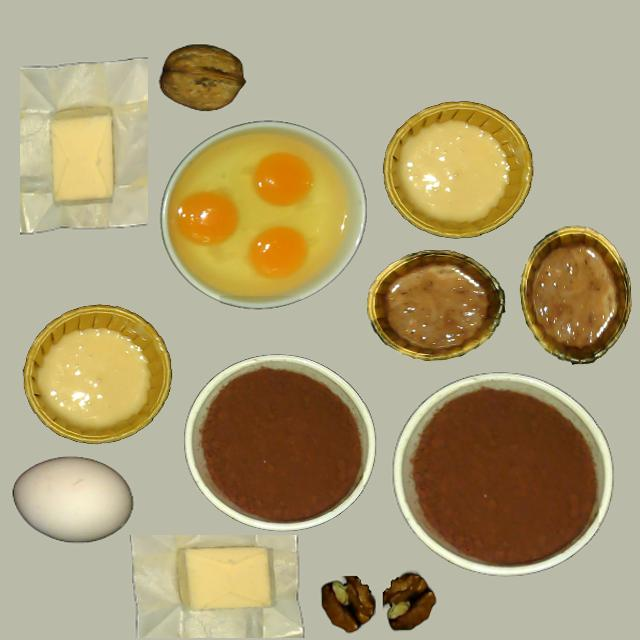Cocoa: (394, 374, 610, 576), (184, 355, 366, 531)
Egg: (175, 192, 239, 245), (252, 153, 313, 207), (249, 226, 308, 278)
Walnut: (160, 44, 245, 111)
